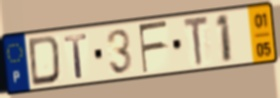1: (215, 12, 236, 65)
3: (105, 28, 134, 75)
D: (27, 34, 62, 88)
F: (136, 19, 169, 76)
T: (182, 14, 210, 69), (62, 32, 89, 81)
